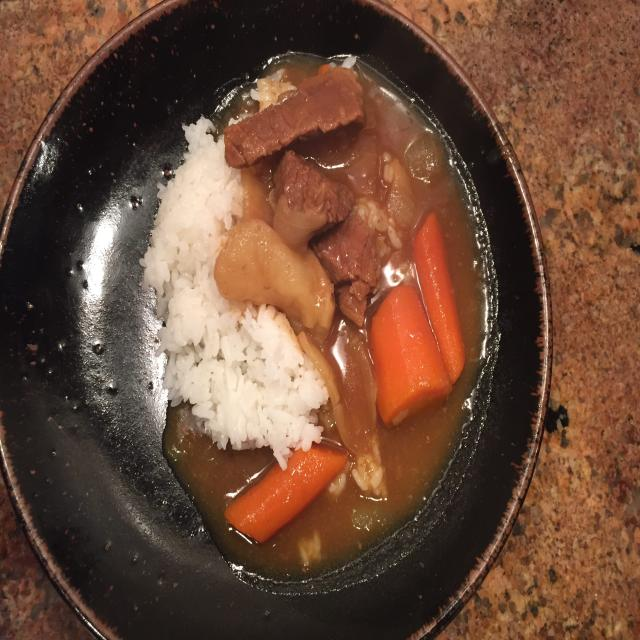Wet: (143, 49, 481, 587)
